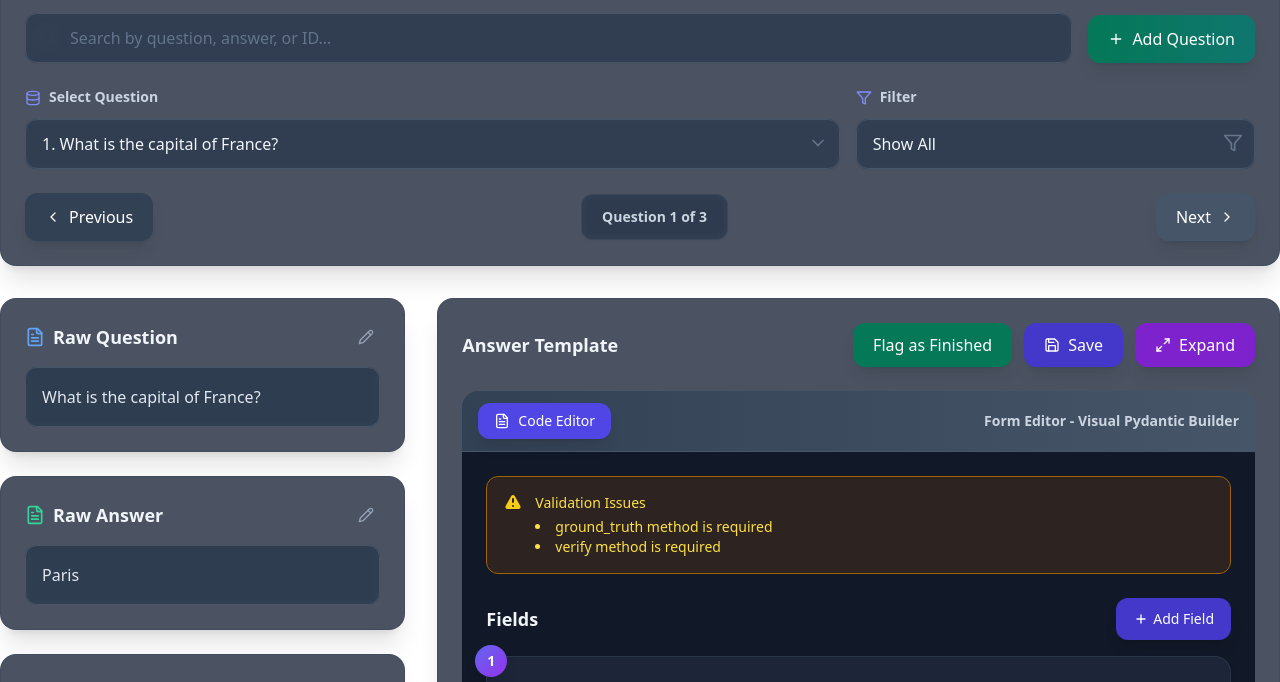
Scenario: Question Navigation Integration Tests › integ-014: Revert to original and mark as finished › should toggle finished status
The image size is (1280, 682).
(page scrolled)
Expected: the text "Question 1 of 3" is shown, left=602, top=207, right=707, bottom=227
// Find the finished button and click it
Click the button "Flag as Finished": x=933, y=345 left=853, top=323, right=1012, bottom=367
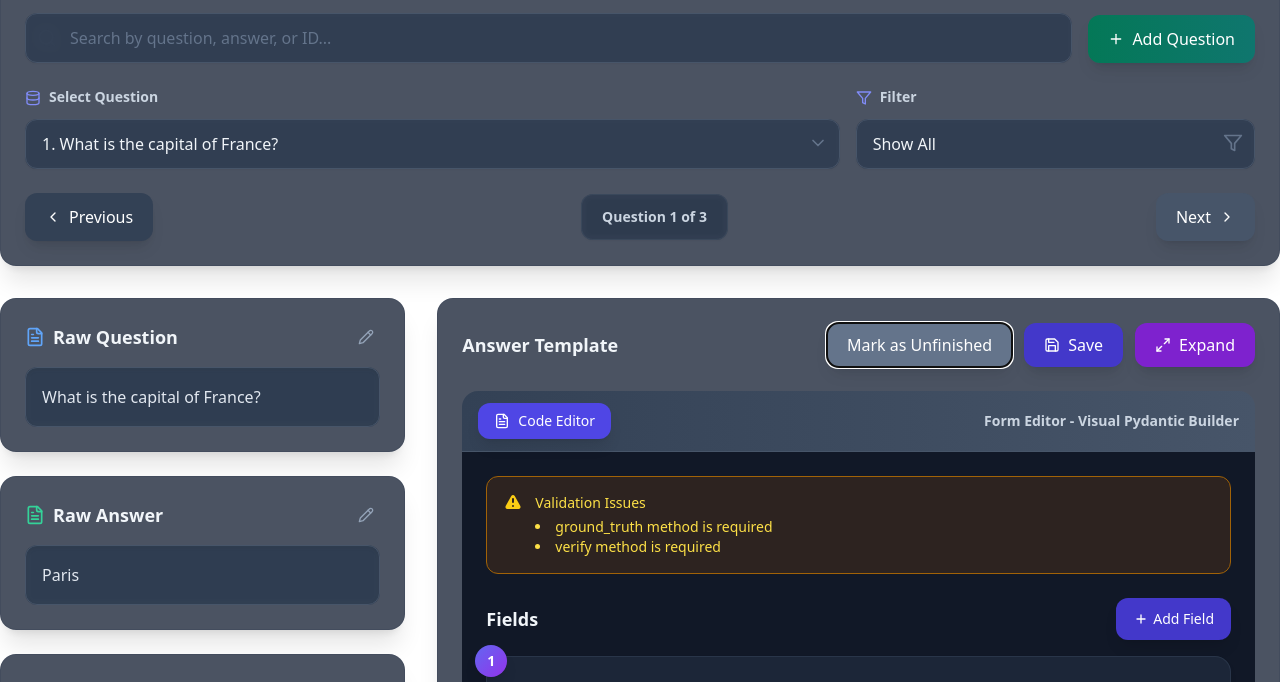
Expected: the button "Mark as Unfinished" is shown
// Click again to mark as unfinished
Click the button "Mark as Unfinished": x=920, y=345 left=827, top=323, right=1012, bottom=367
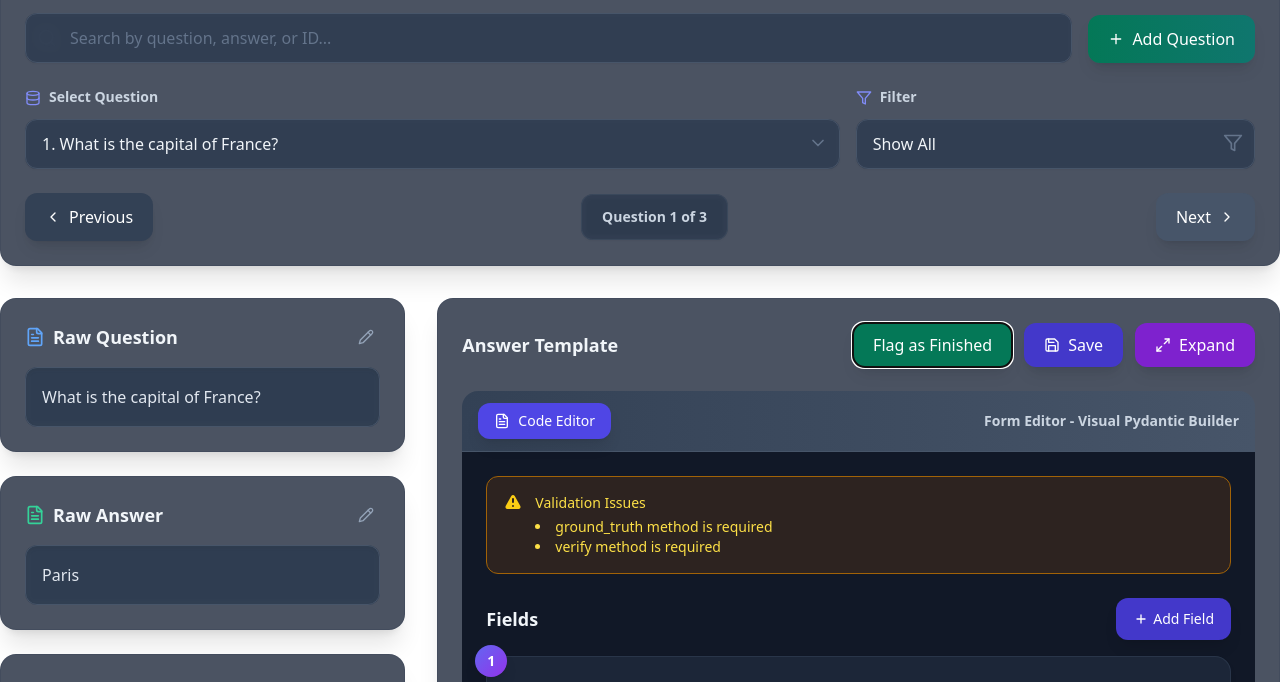
Expected: the button "Flag as Finished" is shown, left=853, top=323, right=1012, bottom=367
